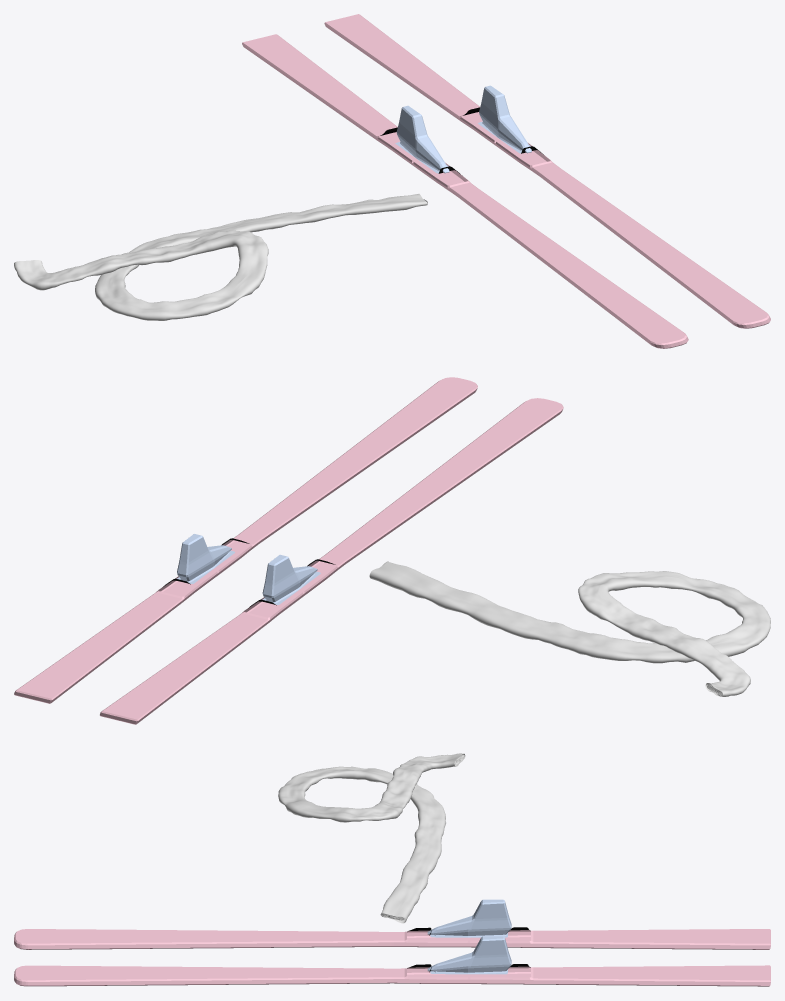
File: Lost_items.fbx
3 renders of one model, top to bottom at view 1: azimuth 30°, elevation 25°; view 2: azimuth 150°, elevation 25°; view 3: azimuth 270°, elevation 25°, orthographic. The views are drawn at different scales.
Parts seen in each view (by area): view 1: Lost_Ski.001, Lost_Ski, Scarf; view 2: Scarf, Lost_Ski, Lost_Ski.001; view 3: Lost_Ski.001, Lost_Ski, Scarf.
Boxes of the visible parts, x1=… form: Lost_Ski.001: x1=324, y1=14, x2=770, y2=328; Lost_Ski: x1=242, y1=34, x2=688, y2=348; Scarf: x1=14, y1=194, x2=427, y2=320; Scarf: x1=369, y1=561, x2=770, y2=696; Lost_Ski: x1=100, y1=398, x2=563, y2=724; Lost_Ski.001: x1=14, y1=377, x2=477, y2=703; Lost_Ski.001: x1=14, y1=936, x2=770, y2=986; Lost_Ski: x1=14, y1=899, x2=770, y2=949; Scarf: x1=278, y1=753, x2=465, y2=923.
Bounding box in the file's own units: 579 × 53.26 × 800.
